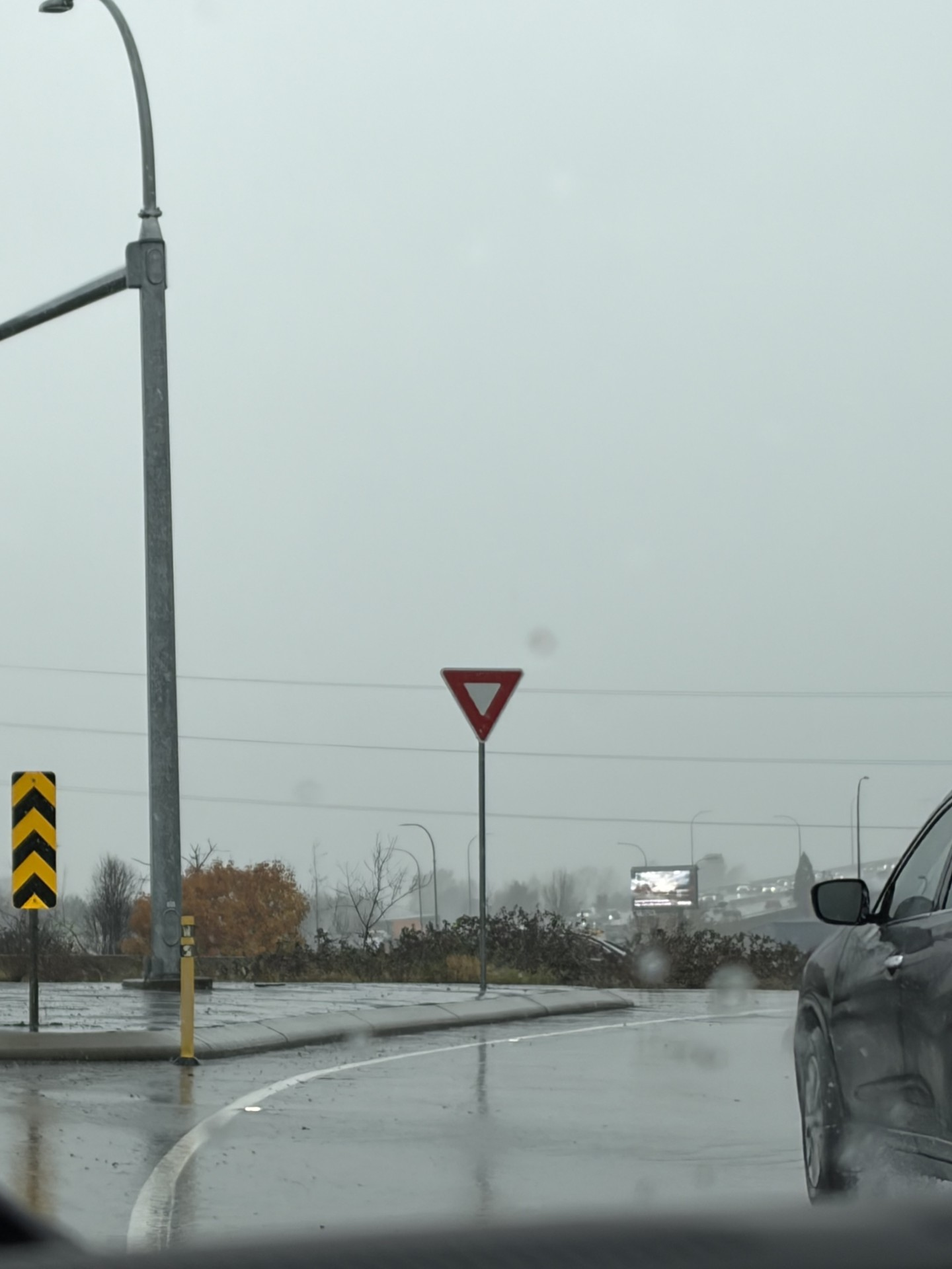yield: (397, 589, 552, 768)
